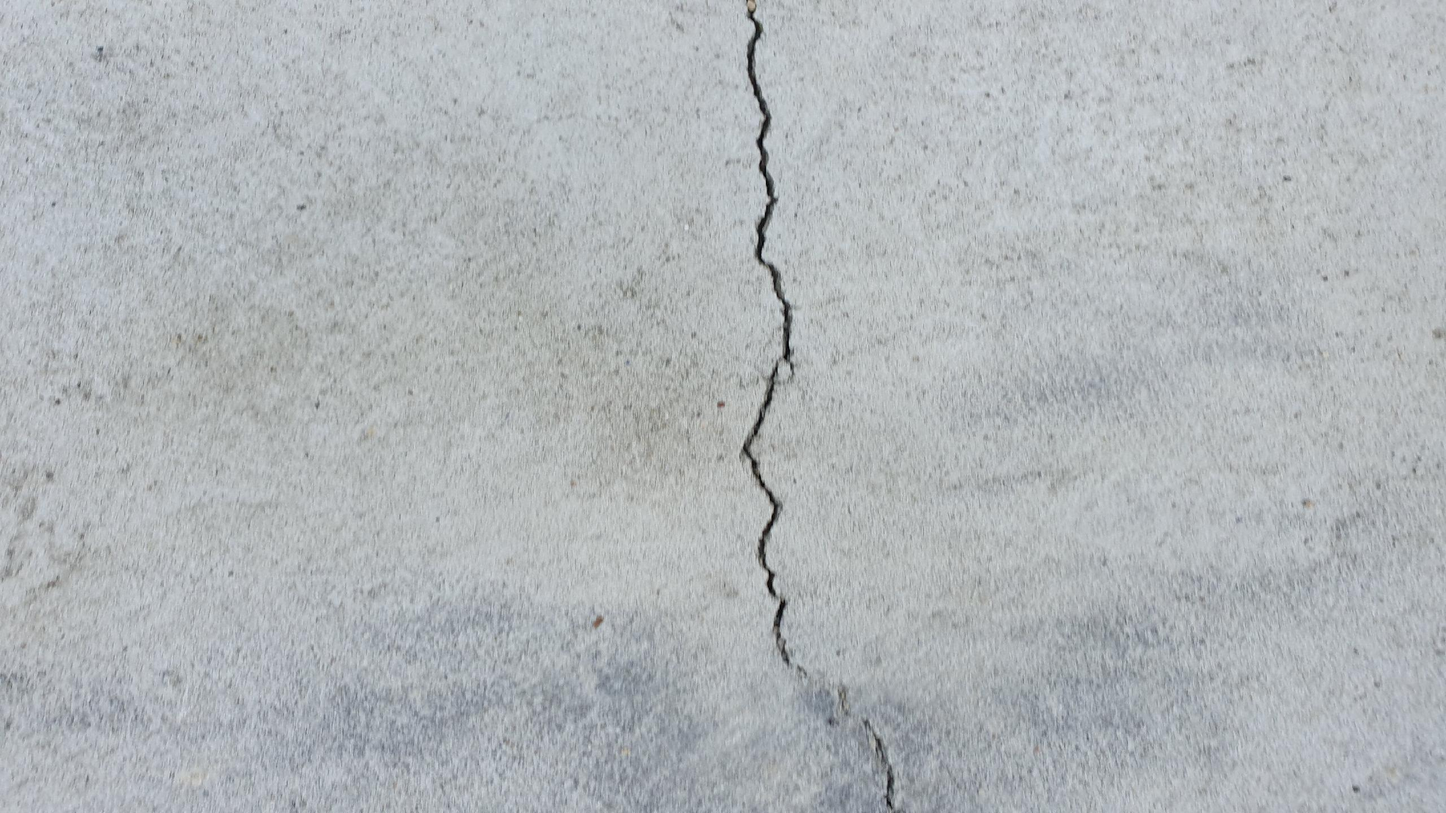crack: (743, 0, 899, 812)
